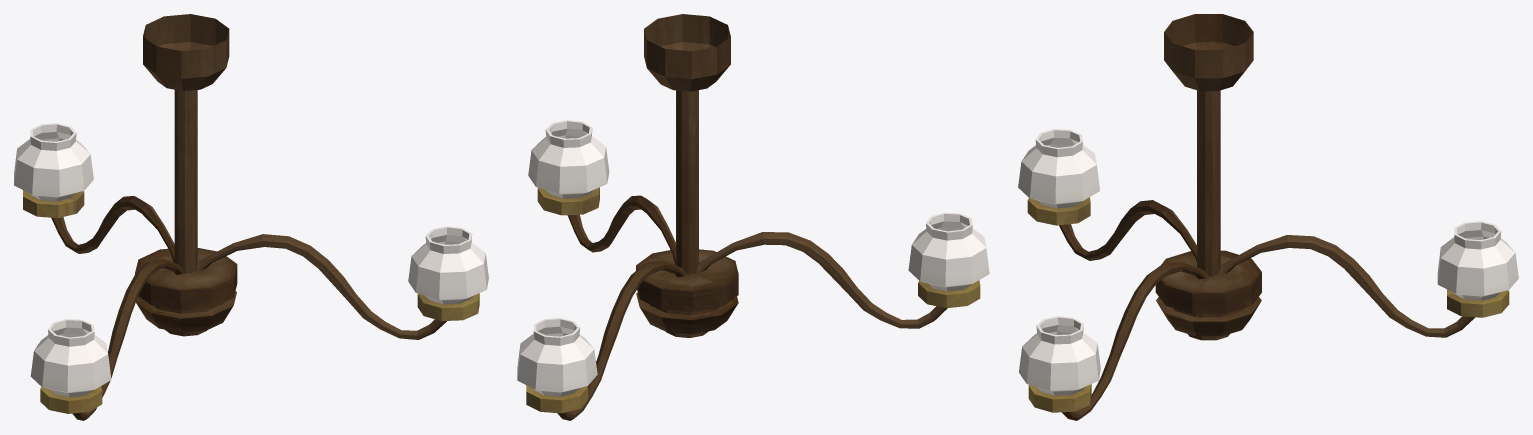
Rendered from toplight.FBX.
3 renders of one model, left to right at view 1: azimuth 30°, elevation 25°; view 2: azimuth 150°, elevation 25°; view 3: azimuth 270°, elevation 25°, orthographic.
Parts seen in each view (by area): view 1: light_post (×4), light_Lampshade02, light_Lampshade03, light_Lampshade01; view 2: light_post (×4), light_Lampshade02, light_Lampshade03, light_Lampshade01; view 3: light_post (×4), light_Lampshade02, light_Lampshade01, light_Lampshade03.
Boxes of the visible parts, box(x1,y1,x2,y2) form: light_post (×4): box(51, 14, 446, 420); light_Lampshade02: box(408, 226, 488, 321); light_Lampshade03: box(30, 319, 111, 413); light_Lampshade01: box(14, 123, 93, 218); light_post (×4): box(557, 14, 947, 420); light_Lampshade02: box(528, 120, 609, 215); light_Lampshade03: box(908, 212, 989, 308); light_Lampshade01: box(517, 318, 597, 413); light_post (×4): box(1059, 14, 1474, 420); light_Lampshade02: box(1019, 316, 1100, 412); light_Lampshade01: box(1437, 221, 1518, 317); light_Lampshade03: box(1018, 129, 1099, 225).
Size of the model in its own units: 62.69 by 40.31 by 59.84.
